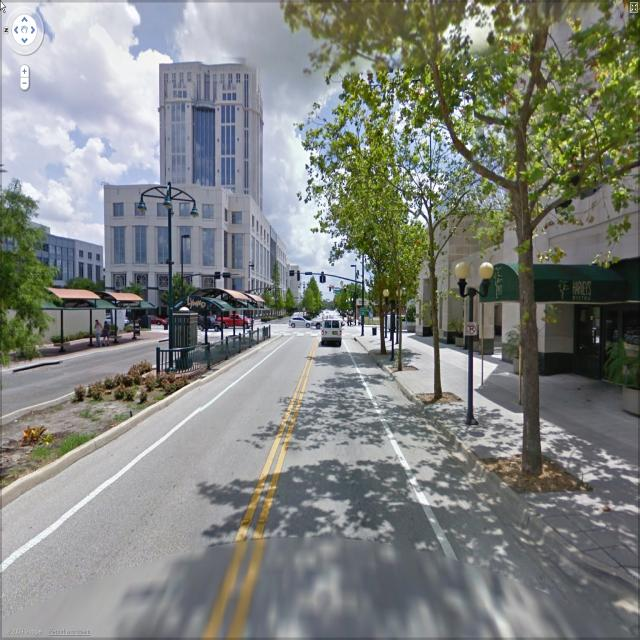b_1: (99, 50, 275, 309), (76, 235, 106, 291)
b_2: (382, 1, 634, 407), (1, 203, 113, 304), (262, 247, 326, 326)
